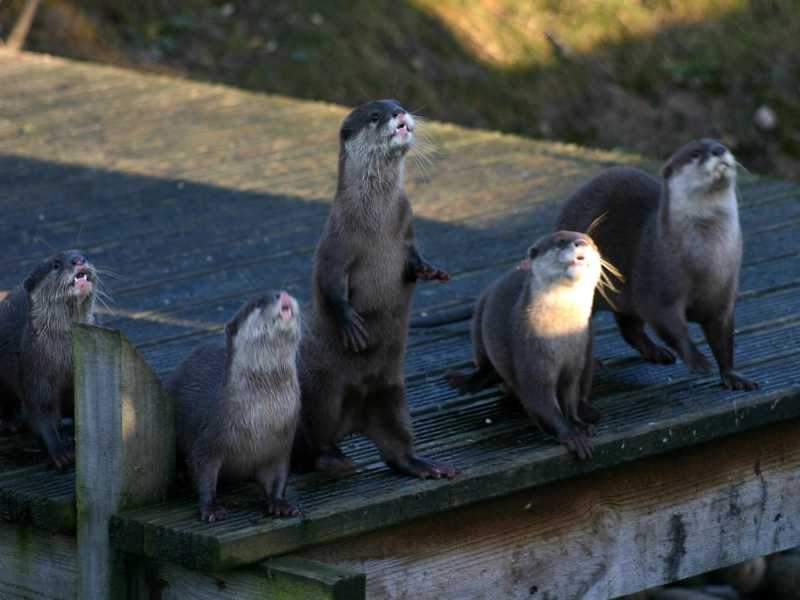minkish: (303, 95, 458, 487), (554, 137, 765, 403), (447, 230, 605, 466), (167, 285, 304, 533), (1, 248, 97, 477)
